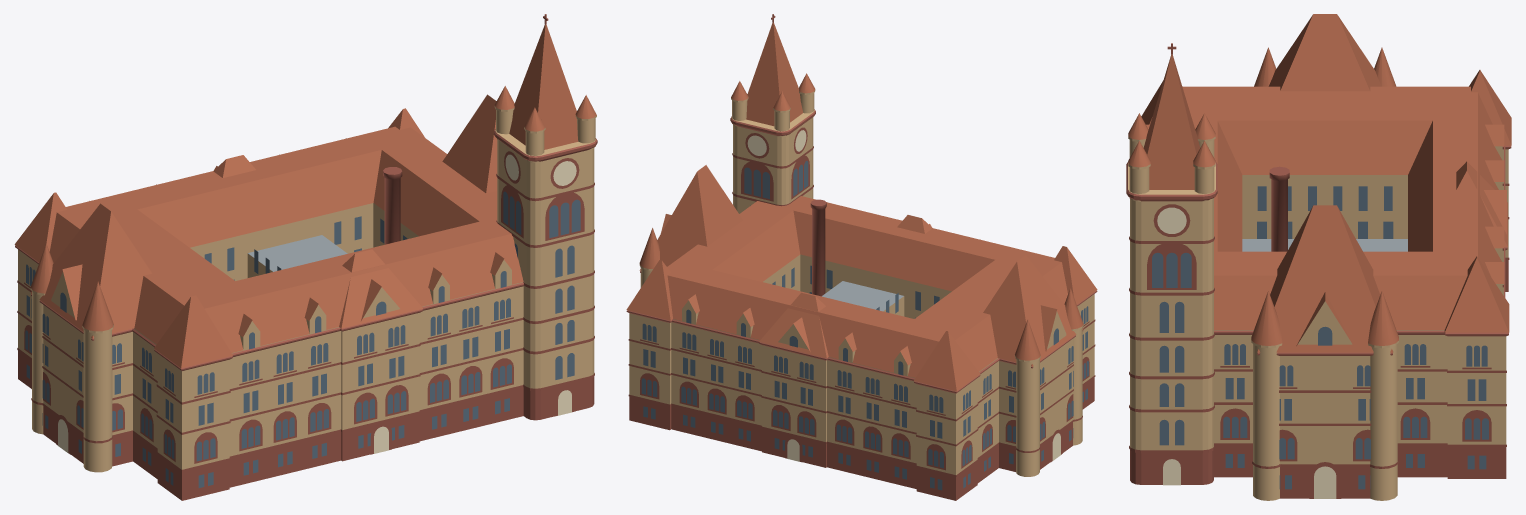
File: cin-city-hall.glb
The picture shows the model from 3 angles, left to right: view 1: azimuth 30°, elevation 25°; view 2: azimuth 150°, elevation 25°; view 3: azimuth 270°, elevation 25°; orthographic projection. The views are drawn at different scales.
Parts seen in each view (by area): view 1: Cincinnati City Hall; view 2: Cincinnati City Hall; view 3: Cincinnati City Hall.
Boxes of the visible parts, x1,y1,x2,y2 form: Cincinnati City Hall: [14, 14, 597, 500]; Cincinnati City Hall: [626, 14, 1097, 500]; Cincinnati City Hall: [1126, 14, 1511, 500].
Bounding box in the file's own units: 103 × 79 × 65.1.
